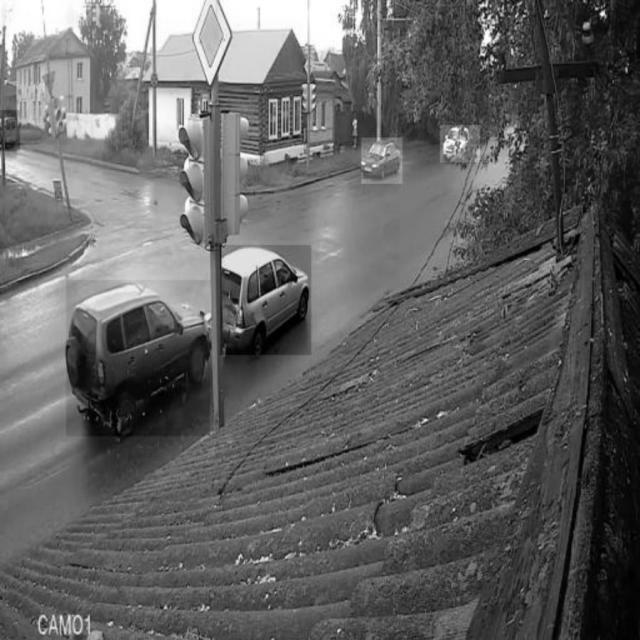vehicle: (66, 281, 210, 437), (221, 246, 312, 356), (362, 138, 403, 184), (440, 125, 480, 162), (0, 111, 20, 152)
